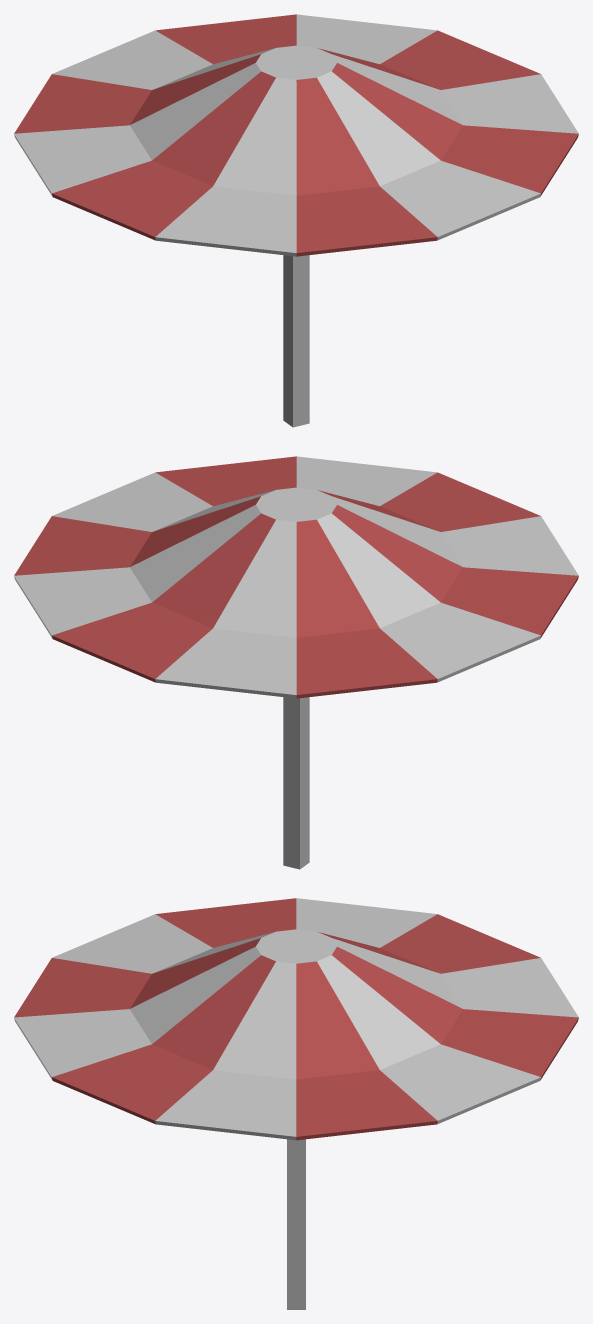
Rendered from umbrella01.fbx.
3 renders of one model, top to bottom at view 1: azimuth 30°, elevation 25°; view 2: azimuth 150°, elevation 25°; view 3: azimuth 270°, elevation 25°, orthographic.
Parts seen in each view (by area): view 1: Umbrella01; view 2: Umbrella01; view 3: Umbrella01.
Boxes of the visible parts, x1,y1,x2,y2 form: Umbrella01: (14, 14, 578, 427); Umbrella01: (14, 456, 578, 869); Umbrella01: (14, 898, 578, 1309).
Size of the model in its own units: 310 by 217 by 310.
